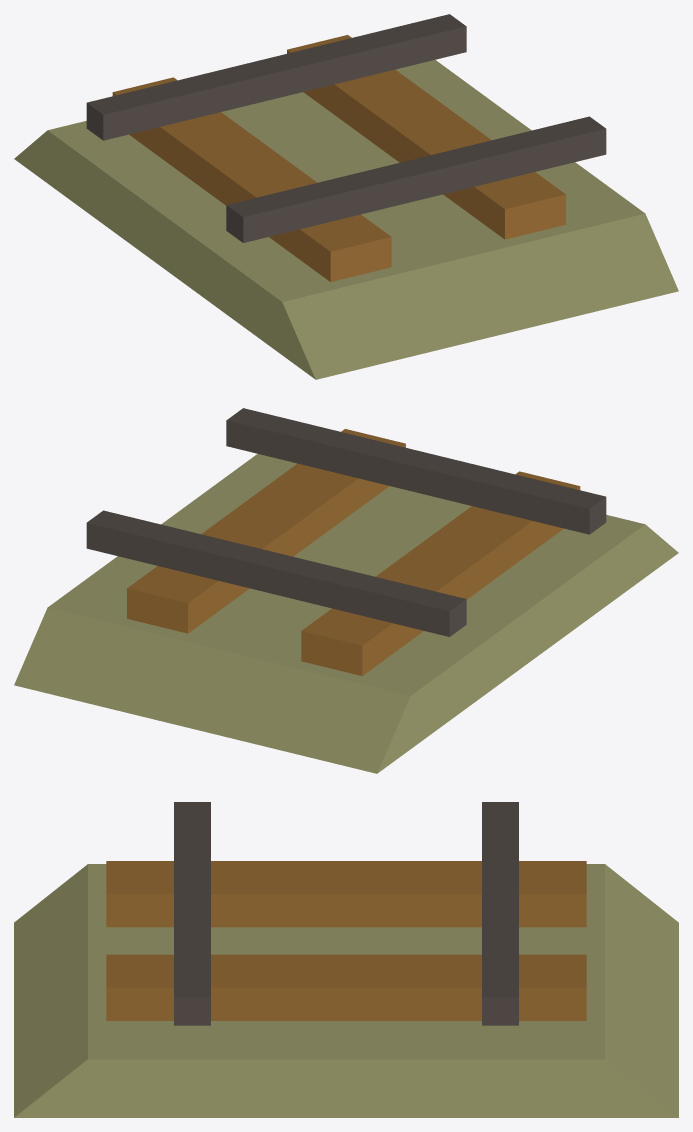
Rendered from SM_Via_Recta2_v1_Madera_LOD1.fbx.
3 renders of one model, top to bottom at view 1: azimuth 30°, elevation 25°; view 2: azimuth 150°, elevation 25°; view 3: azimuth 270°, elevation 25°, orthographic. The views are drawn at different scales.
Visible parts, largest first — view 1: SM_via_trazado_v6_LOD1; view 2: SM_via_trazado_v6_LOD1; view 3: SM_via_trazado_v6_LOD1.
Part boxes in pixels (bbox=[...]): SM_via_trazado_v6_LOD1: bbox=[14, 14, 678, 379]; SM_via_trazado_v6_LOD1: bbox=[14, 408, 678, 773]; SM_via_trazado_v6_LOD1: bbox=[14, 802, 678, 1117].
Size of the model in its own units: 2.5 by 0.72 by 3.6.
